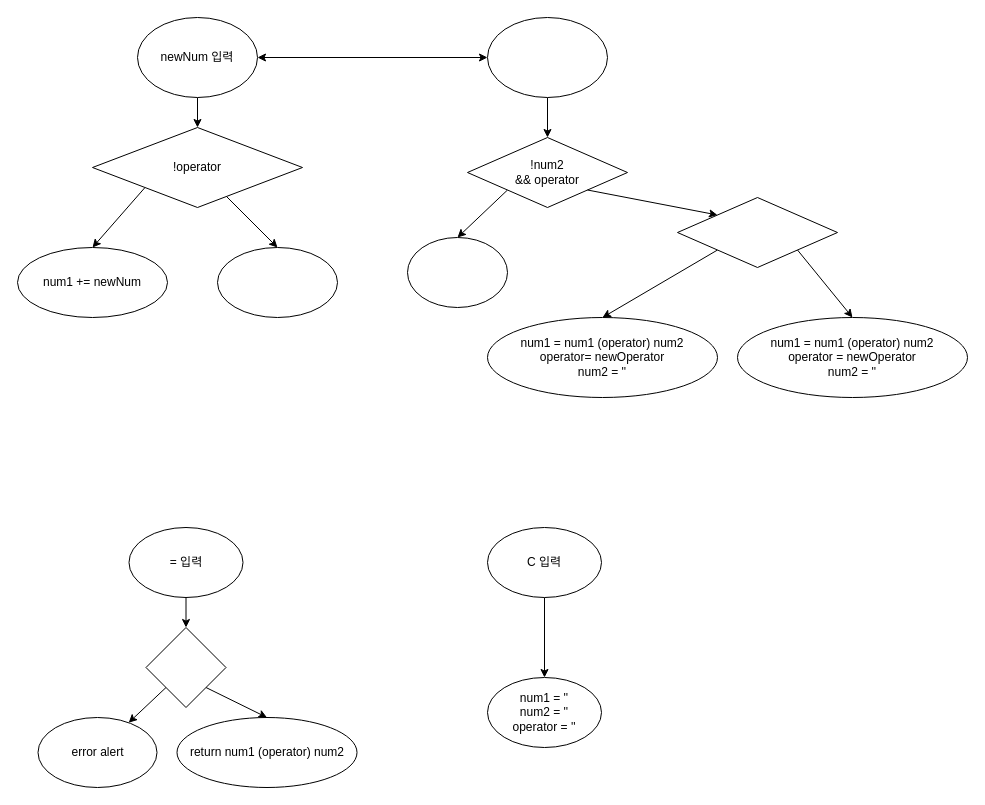
The diagram is 985 pixels wide and 805 high, and some of its shapes have lost their labels. The box of each missing label's shape, as (x1, y1, x2, y2) in pixels:
!num2: (145, 626, 226, 708)
!num2 && !operator: (676, 196, 838, 268)
newOperator 입력 (+,-,x,/): (486, 16, 608, 98)
num2 = newNum: (216, 246, 338, 318)
operator = newOperator: (406, 236, 508, 308)
